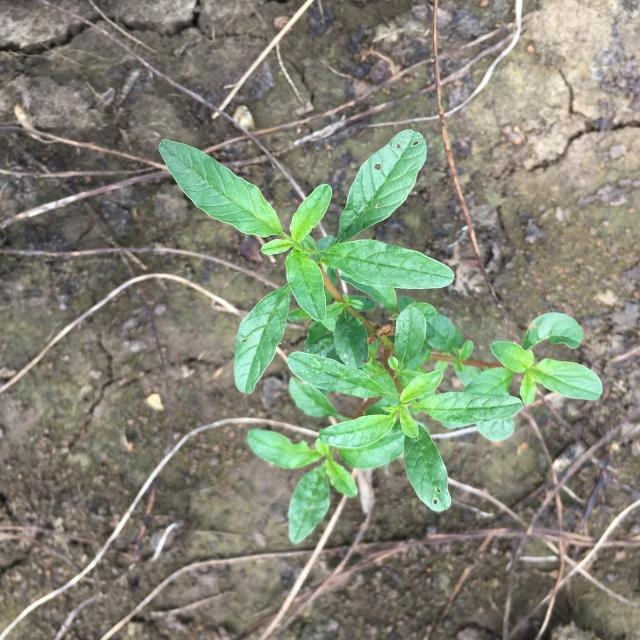Waterhemp: (158, 129, 602, 545)
